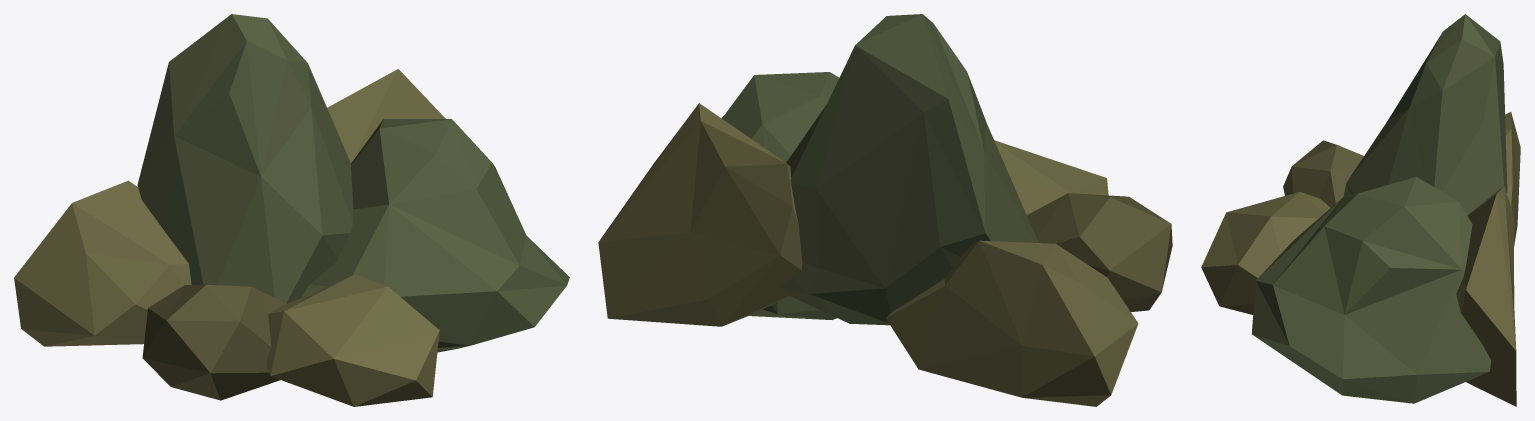
File: SM_Env_Bush_Facade_01.fbx
The picture shows the model from 3 angles, left to right: view 1: azimuth 30°, elevation 25°; view 2: azimuth 150°, elevation 25°; view 3: azimuth 270°, elevation 25°; orthographic projection. The views are drawn at different scales.
Visible parts, largest first — view 1: SM_Env_Bush_Facade_01; view 2: SM_Env_Bush_Facade_01; view 3: SM_Env_Bush_Facade_01.
Boxes of the visible parts, x1,y1,x2,y2 form: SM_Env_Bush_Facade_01: (14,14,569,406); SM_Env_Bush_Facade_01: (598,14,1172,406); SM_Env_Bush_Facade_01: (1201,14,1520,406).
Bounding box in the file's own units: 446 × 305 × 301.
Materials: 1 (1 with a texture image).
